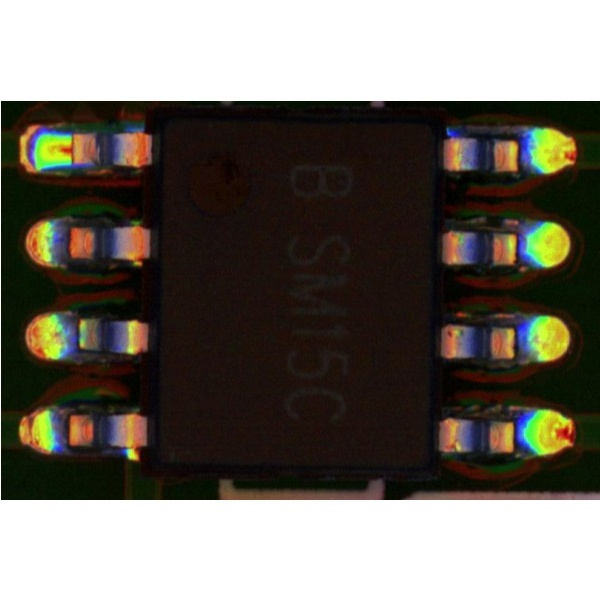Bad_podu: (58, 137, 80, 163)
